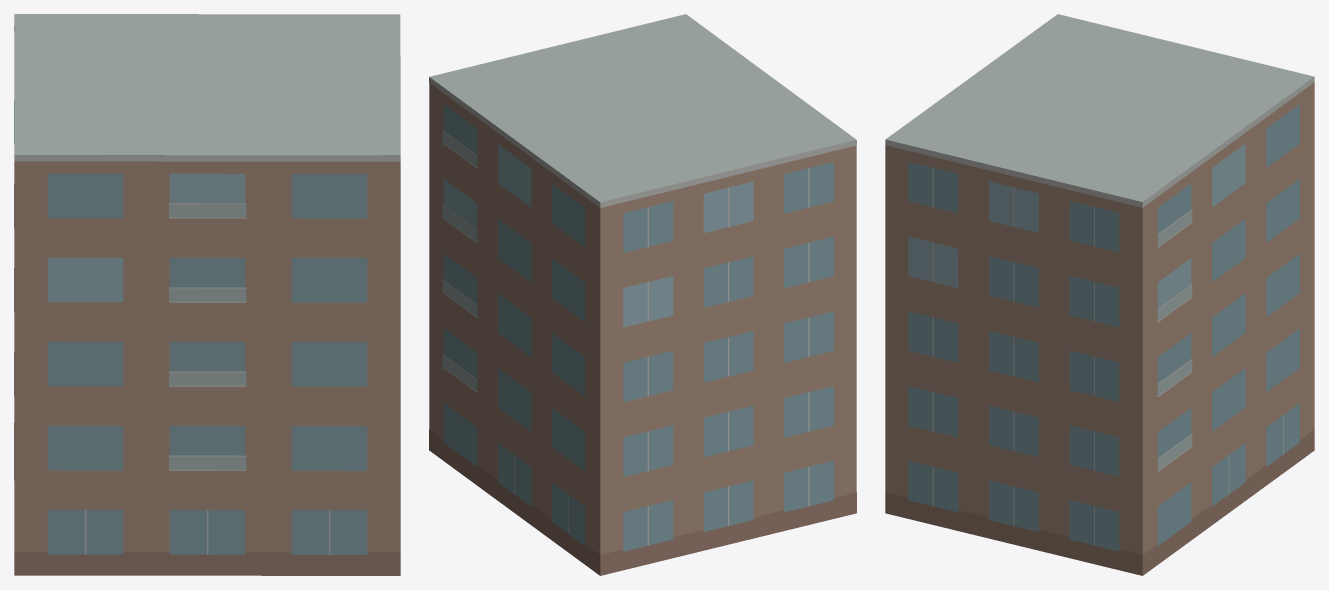
File: survey-upis-32551112.glb
3 renders of one model, left to right at view 1: azimuth 30°, elevation 25°; view 2: azimuth 150°, elevation 25°; view 3: azimuth 270°, elevation 25°, orthographic. The views are drawn at different scales.
Parts seen in each view (by area): view 1: survey-upis-32551112.tmp; view 2: survey-upis-32551112.tmp; view 3: survey-upis-32551112.tmp.
Part boxes in pixels (<box>): survey-upis-32551112.tmp: <box>14,14,400,575</box>; survey-upis-32551112.tmp: <box>429,14,856,575</box>; survey-upis-32551112.tmp: <box>885,14,1314,575</box>.
Bounding box in the file's own units: 17.39 × 16.1 × 16.77.
